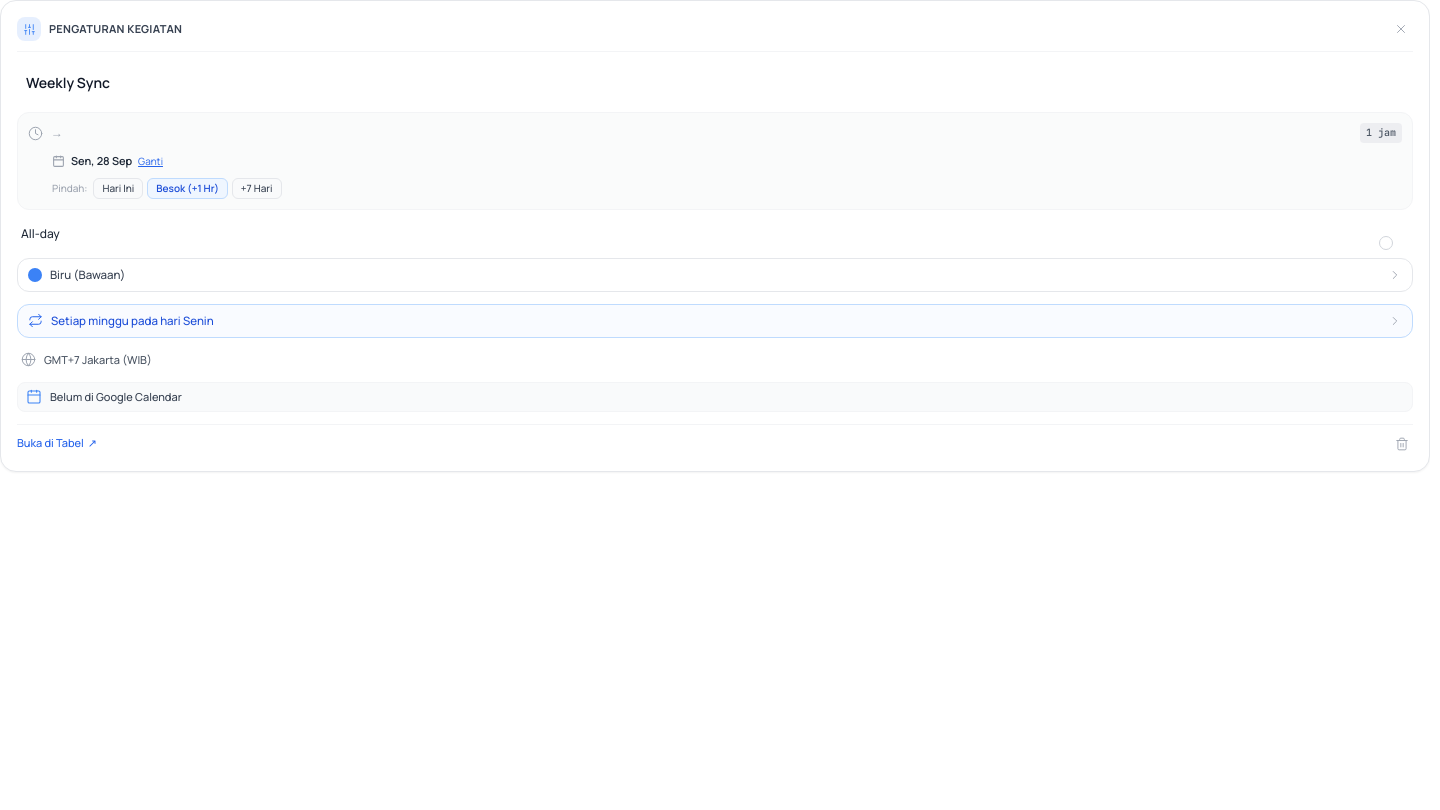
Test case: CalendarCardSettings (Notion-style recurring options) › keeps the repeat button enabled and allows changing recurrence options directly
Click the button "Setiap minggu pada hari Senin" at (132, 320), box top-left (17, 304), bottom-right (1413, 338)
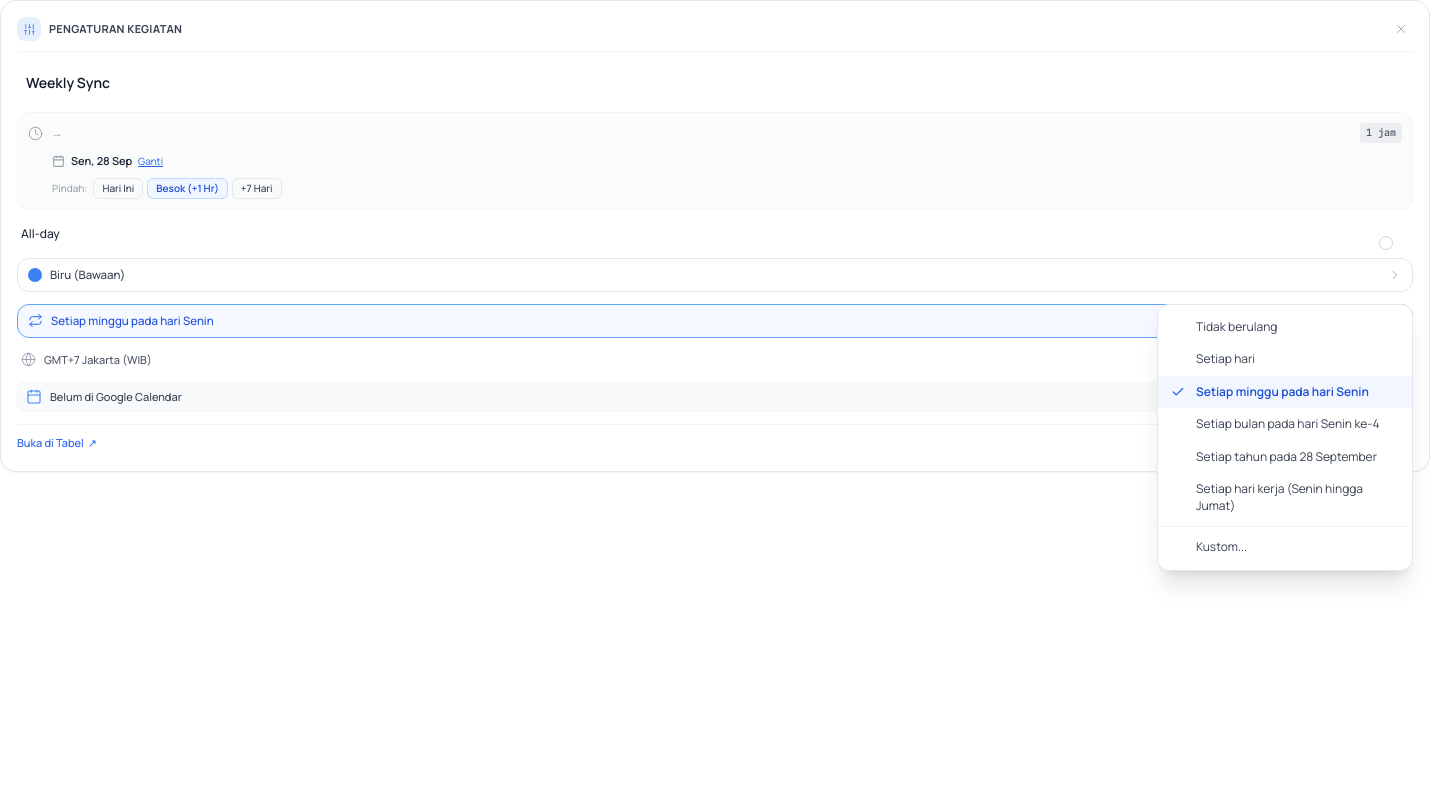
Now the text "Setiap hari" is shown, box top-left (1196, 351), bottom-right (1255, 368)
Now the text "Tidak berulang" is shown, box top-left (1196, 318), bottom-right (1277, 335)
